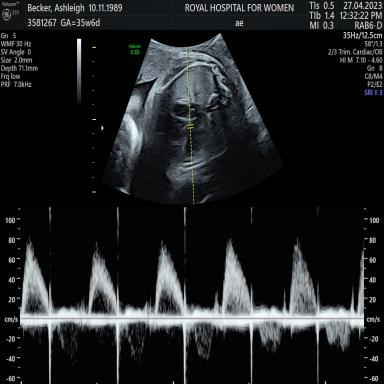Ultrasound-Waves: (23, 209, 362, 378)
